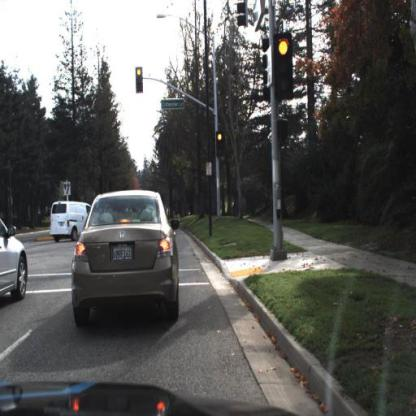car: (73, 187, 179, 329), (1, 210, 33, 306), (49, 197, 93, 244), (50, 200, 92, 242)
trafficLight-Red: (272, 33, 295, 101), (216, 132, 226, 162), (136, 68, 145, 95)
